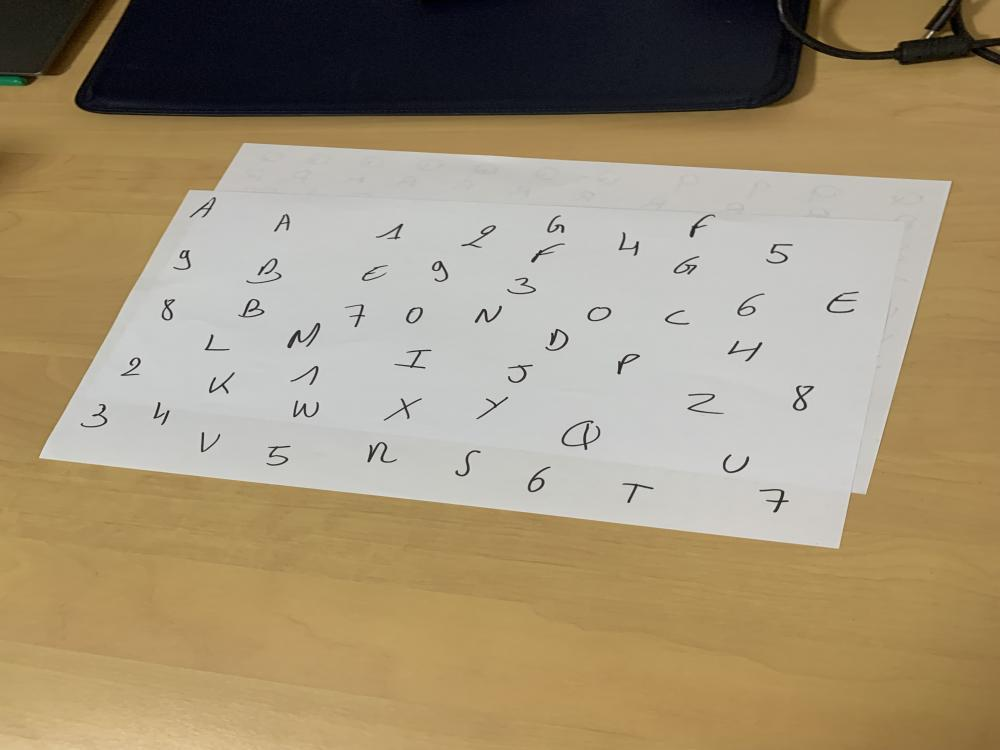0: (578, 305, 619, 325), (402, 305, 426, 325)
1: (282, 363, 322, 386), (373, 221, 411, 244)
2: (454, 222, 503, 252), (116, 356, 145, 379)
3: (80, 400, 120, 431), (503, 275, 539, 296)
4: (147, 400, 180, 431), (616, 230, 646, 258)
5: (263, 442, 298, 468), (765, 239, 796, 265)
6: (734, 291, 771, 320), (527, 463, 556, 494)
7: (754, 486, 791, 514), (342, 304, 372, 330)
8: (786, 384, 822, 413), (160, 296, 181, 322)
9: (167, 247, 200, 272), (426, 259, 452, 284)
A: (186, 194, 221, 220), (272, 210, 295, 236)
B: (243, 256, 285, 285), (237, 297, 269, 319)
C: (660, 307, 696, 329)
D: (542, 328, 574, 352)
E: (822, 288, 863, 316), (350, 262, 394, 284)
F: (676, 212, 727, 240), (526, 242, 570, 265)
G: (664, 254, 706, 278), (540, 213, 575, 235)
H: (726, 338, 770, 363)
I: (391, 344, 434, 370)
J: (501, 362, 542, 385)
K: (208, 372, 243, 398)
L: (202, 332, 233, 353)
M: (282, 321, 326, 349)
N: (358, 440, 403, 468), (472, 305, 508, 325)
P: (611, 352, 647, 378)
Q: (559, 420, 606, 453)
S: (452, 447, 486, 480)
T: (613, 478, 658, 506)
U: (715, 452, 754, 476)
V: (192, 430, 226, 454)
W: (286, 398, 327, 421)
X: (378, 396, 427, 422)
Y: (469, 395, 518, 421)
Z: (681, 392, 728, 418)
